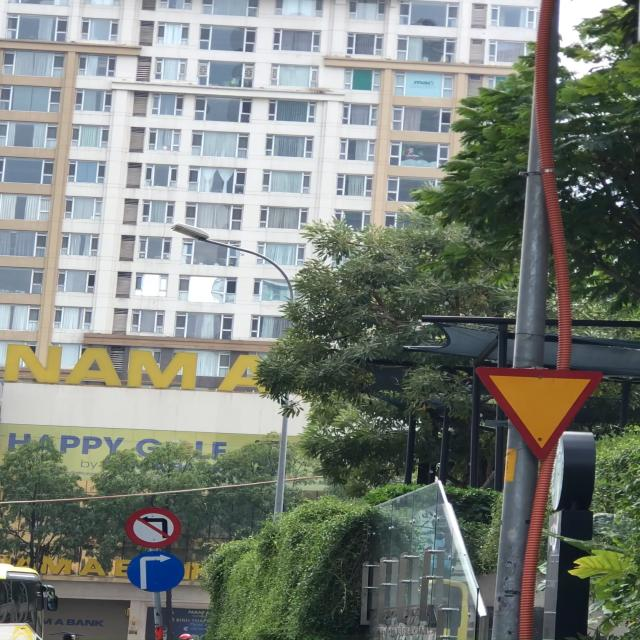Bien bao cam re trai: (121, 506, 187, 550)
Bien bao giao nhau voi duong uu tien: (472, 359, 596, 460)
Bien bao huong di phai theo: (127, 549, 190, 595)
